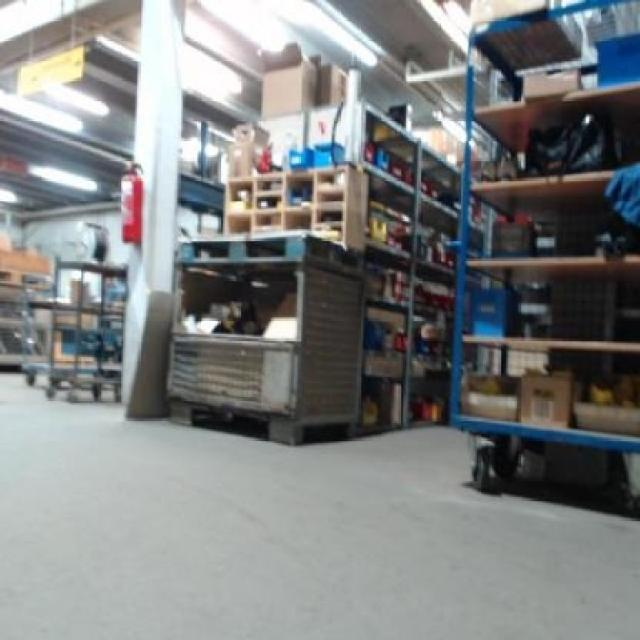floor: (0, 371, 637, 637)
pallets: (448, 0, 637, 505), (169, 232, 362, 442)
